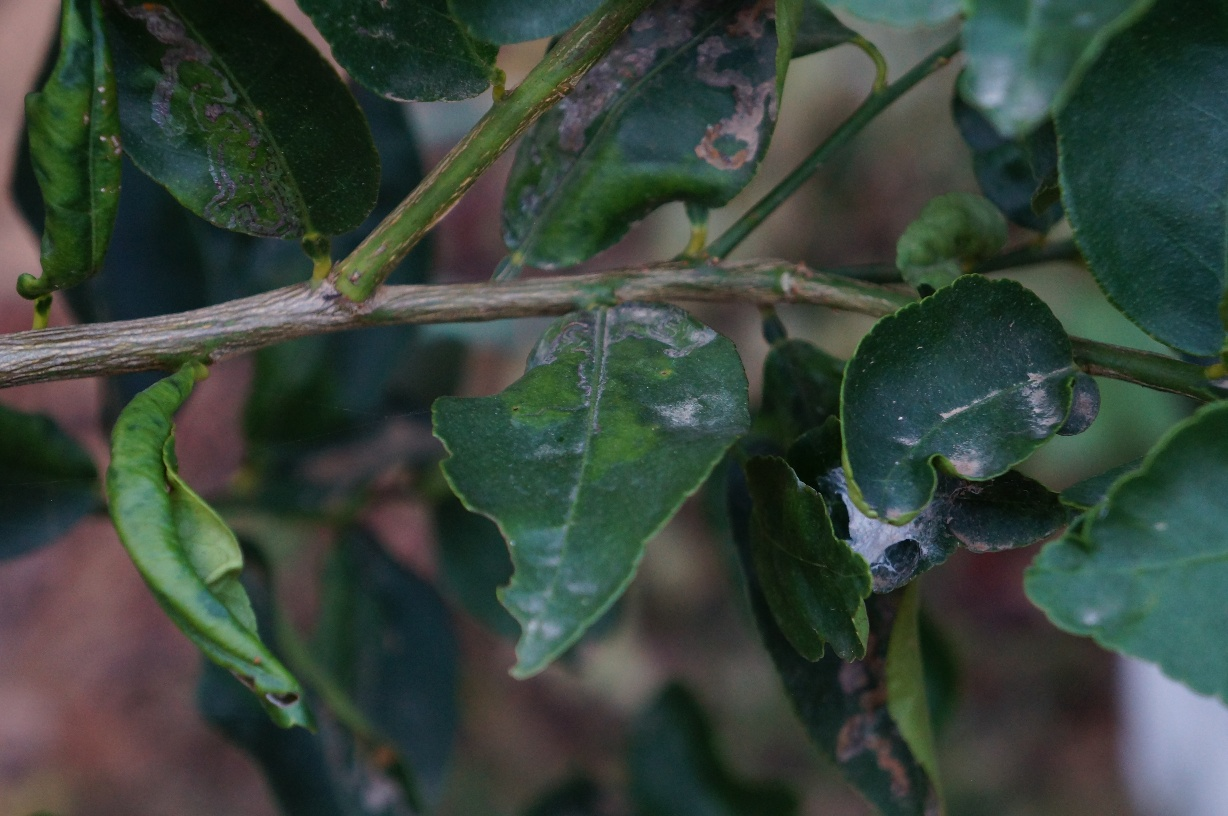curly: (94, 357, 343, 743)
damage: (510, 0, 787, 229), (105, 0, 325, 242), (513, 298, 739, 385)
